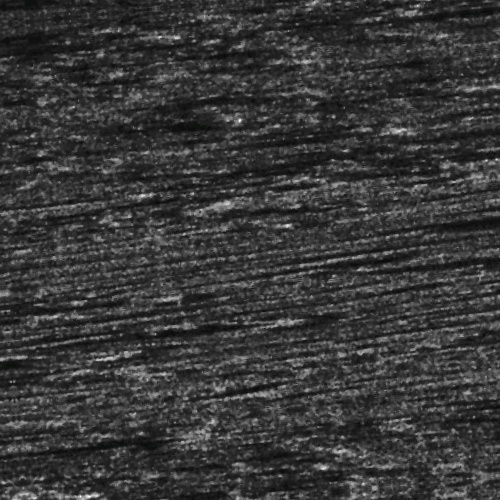object: (0, 463, 64, 488), (365, 137, 428, 148)
shadow: (292, 26, 500, 39), (318, 15, 500, 28), (217, 137, 396, 148), (0, 463, 27, 488), (479, 1, 500, 8)
